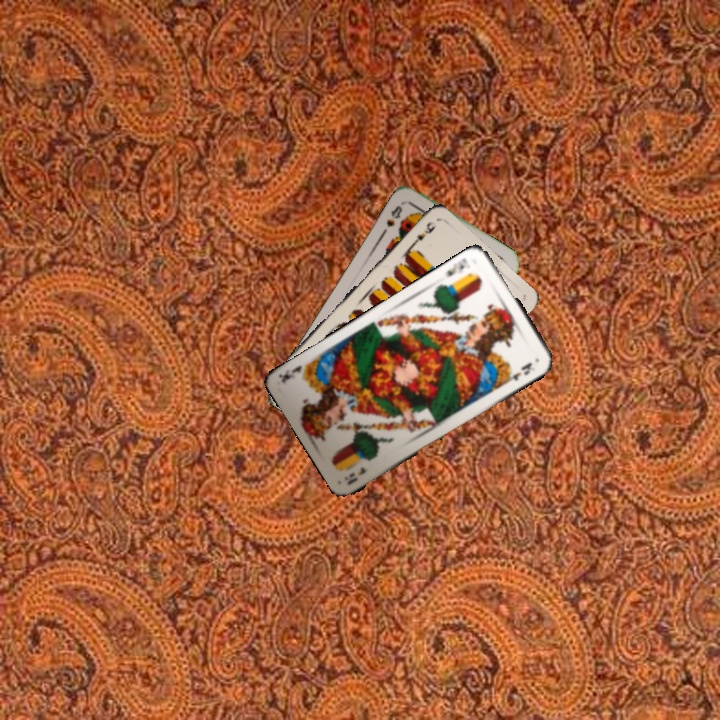E9: (407, 217, 438, 250)
EK: (442, 254, 473, 280), (341, 463, 369, 487)
S8: (382, 201, 405, 230)
